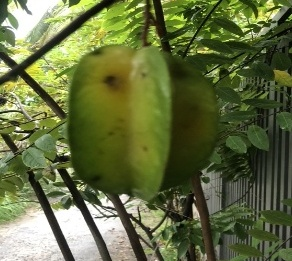Khe: (64, 43, 220, 202)
